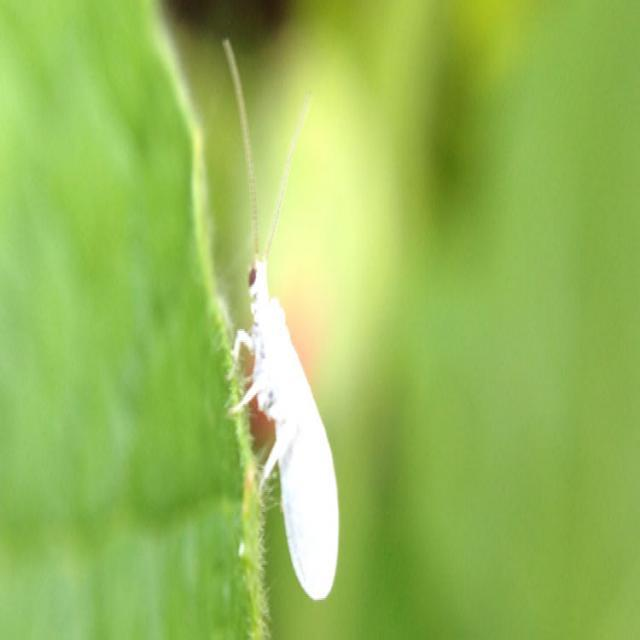Whitefly: (218, 5, 346, 624)
